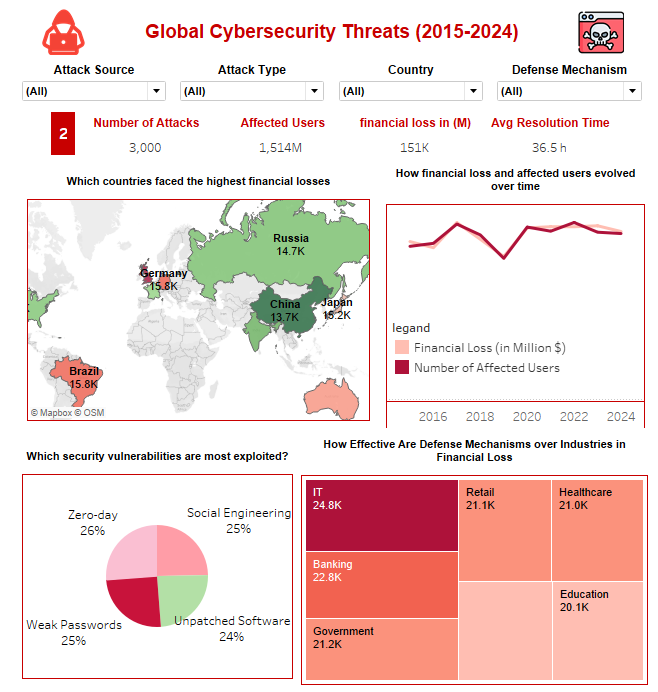

Layout of this report page (visuals, bound fields, positions):
{"tool":"tableau","page":{"name":"Dashboard 2","canvas":[650,860],"ordinal":0},"visuals":[{"type":"image","param":"Image/hacker.png","box":[8,12.3,96,82.9]},{"type":"title","box":[104,12.3,442,82.9]},{"type":"image","param":"Image/malware.png","box":[546,12.3,96,82.9]},{"type":"filter","title":"Total Number of Attacks","param":"[federated.1k61nbv0u52odv16lgdz61ymnogl].[none:Attack Source:nk]","box":[8,95.2,158.5,75.2]},{"type":"filter","title":"Total Number of Attacks","param":"[federated.1k61nbv0u52odv16lgdz61ymnogl].[none:Attack Type:nk]","box":[166.5,95.2,158.5,75.2]},{"type":"filter","title":"Total Number of Attacks","param":"[federated.1k61nbv0u52odv16lgdz61ymnogl].[none:Country:nk]","box":[325,95.2,158.5,75.2]},{"type":"filter","title":"Total Number of Attacks","param":"[federated.1k61nbv0u52odv16lgdz61ymnogl].[none:Defense Mechanism Used:nk]","box":[483.5,95.2,158.5,75.2]},{"type":"blank","box":[8,170.5,32,78.3]},{"type":"dashboard-object","box":[40,170.5,32,78.3]},{"type":"worksheet","title":"Total Number of Attacks","mark":"Automatic","box":[72,170.5,134.5,78.3]},{"type":"worksheet","title":"Number of Affected Users","mark":"Automatic","box":[206.5,170.5,134.5,78.3]},{"type":"worksheet","title":"total financial loss in melion","mark":"Automatic","box":[341,170.5,134.5,78.3]},{"type":"worksheet","title":"Average Resolution Time (hrs)","mark":"Automatic","box":[475.5,170.5,134.5,78.3]},{"type":"blank","box":[610,170.5,32,78.3]},{"type":"worksheet","title":"Which countries faced the highest financial losses","mark":"Automatic","box":[8,248.8,367,294.4]},{"type":"worksheet","title":"How have financial loss and affected users evolved from 2015 to 2024","mark":"Automatic","rows":["Financial Loss (in Million $)","Number of Affected Users"],"cols":["Year"],"box":[375,248.8,267,294.4]},{"type":"blank","box":[383,394.7,216,90.6]},{"type":"legend","title":"How have financial loss and affected users evolved from 2015 to 2024","param":"[federated.1k61nbv0u52odv16lgdz61ymnogl].[:Measure Names]","box":[385,396.2,179,89.1]},{"type":"worksheet","title":"Which security vulnerabilities are most exploited?","mark":"Pie","box":[8,543.2,285,304.5]},{"type":"worksheet","title":"How Effective Are Defense Mechanisms over Industries in Financial Loss","mark":"Automatic","box":[293,543.2,349,304.5]}]}

Visuals, with their boxes on the page's 650x860 design canvas (x1, y1, x2, y2). These are canvas units, not pixel positions in the 658x692 screenshot, which may show the page scaled, cropped or inside an application window:
image: l=8, t=12, r=104, b=95
title: l=104, t=12, r=546, b=95
image: l=546, t=12, r=642, b=95
"Total Number of Attacks" filter: l=8, t=95, r=166, b=170
"Total Number of Attacks" filter: l=166, t=95, r=325, b=170
"Total Number of Attacks" filter: l=325, t=95, r=484, b=170
"Total Number of Attacks" filter: l=484, t=95, r=642, b=170
blank: l=8, t=170, r=40, b=249
dashboard-object: l=40, t=170, r=72, b=249
"Total Number of Attacks" worksheet: l=72, t=170, r=206, b=249
"Number of Affected Users" worksheet: l=206, t=170, r=341, b=249
"total financial loss in melion" worksheet: l=341, t=170, r=476, b=249
"Average Resolution Time (hrs)" worksheet: l=476, t=170, r=610, b=249
blank: l=610, t=170, r=642, b=249
"Which countries faced the highest financial losses" worksheet: l=8, t=249, r=375, b=543
"How have financial loss and affected users evolved from 2015 to 2024" worksheet: l=375, t=249, r=642, b=543
blank: l=383, t=395, r=599, b=485
"How have financial loss and affected users evolved from 2015 to 2024" legend: l=385, t=396, r=564, b=485
"Which security vulnerabilities are most exploited?" worksheet (Pie marks): l=8, t=543, r=293, b=848
"How Effective Are Defense Mechanisms over Industries in Financial Loss" worksheet: l=293, t=543, r=642, b=848
